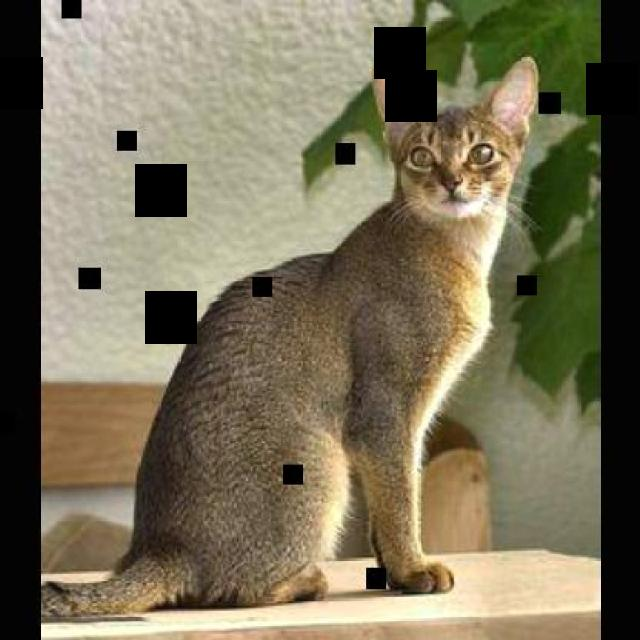unauthorized: (38, 52, 540, 620)
